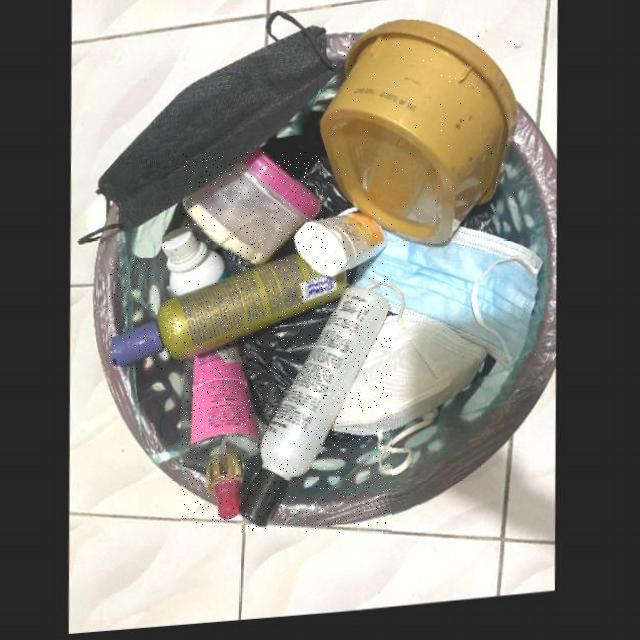plastic: (319, 27, 518, 255), (241, 292, 392, 533), (110, 258, 349, 369), (183, 152, 323, 270), (181, 352, 262, 525), (295, 217, 388, 284), (162, 230, 228, 301)
